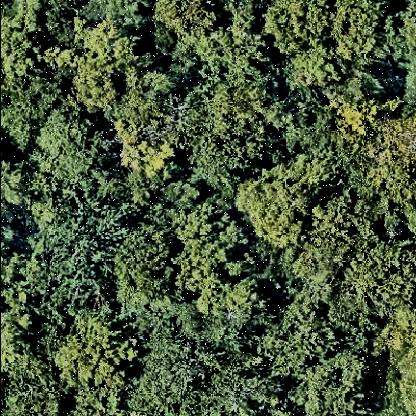tree-top: (145, 329, 275, 416), (197, 69, 285, 171), (39, 195, 115, 311), (175, 200, 253, 310), (112, 67, 182, 181), (237, 164, 323, 251), (51, 314, 132, 397), (135, 336, 219, 412), (108, 230, 174, 326), (64, 25, 134, 115), (36, 111, 116, 189), (258, 301, 328, 377), (1, 343, 67, 416), (150, 3, 226, 63), (292, 355, 370, 413), (347, 246, 416, 311), (327, 2, 395, 67), (377, 301, 416, 413), (3, 71, 61, 141), (364, 166, 416, 236), (2, 244, 46, 326), (2, 3, 44, 82), (1, 153, 35, 223), (76, 1, 150, 27), (393, 1, 416, 77)
